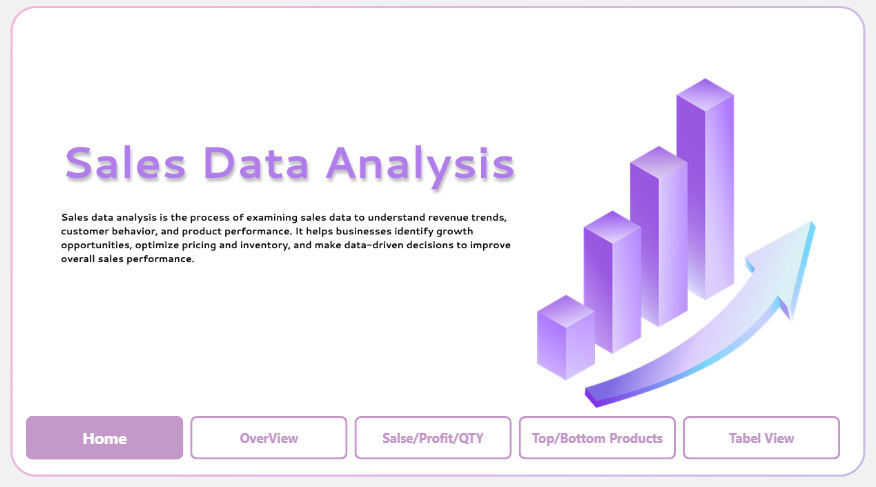

What the dashboard file says about the page in this screenshot:
{"tool":"powerbi","page":{"name":"Home","canvas":[1280,720],"ordinal":0},"visuals":[{"type":"pageNavigator","box":[41.5,609.2,1181.5,63.1],"z":0}]}

Visuals, with their boxes in screenshot pixels (x1, y1, x2, y2), scaled from the page's 1280x720 canvas onto the 876x487 screenshot:
pageNavigator: <box>28,412,837,455</box>
